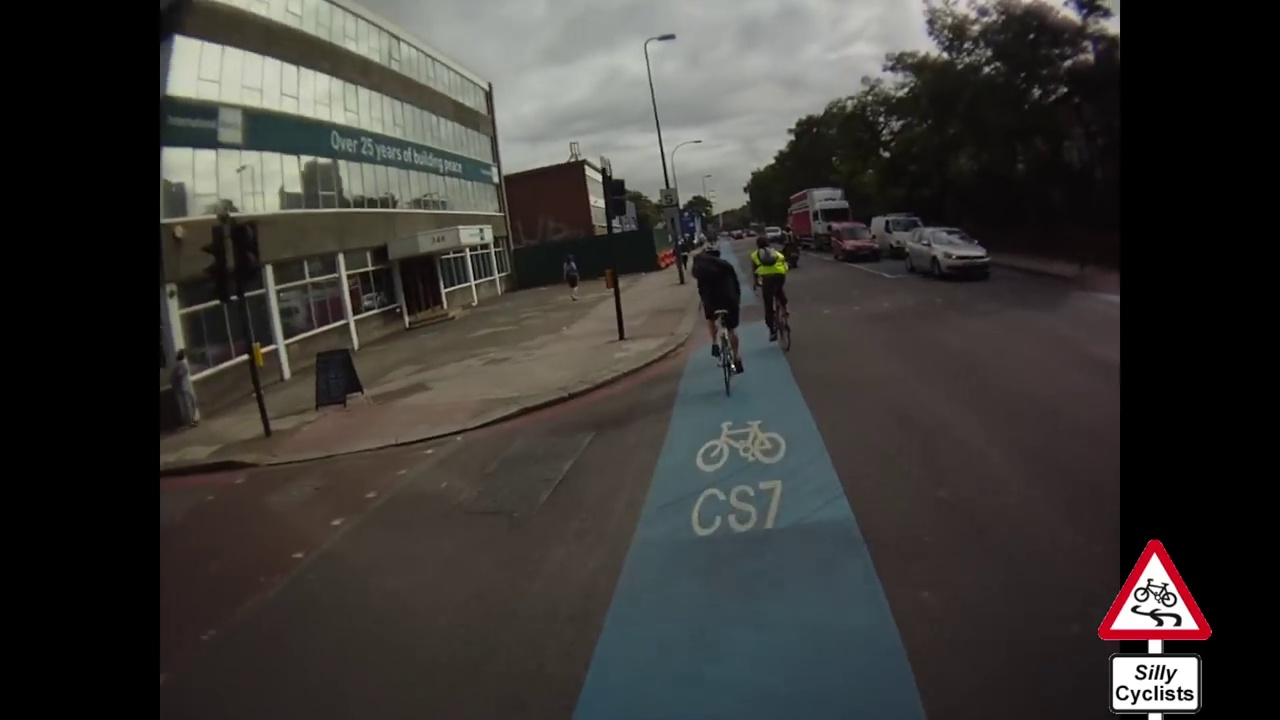cyclist_back: (684, 241, 751, 396), (748, 231, 800, 360)
